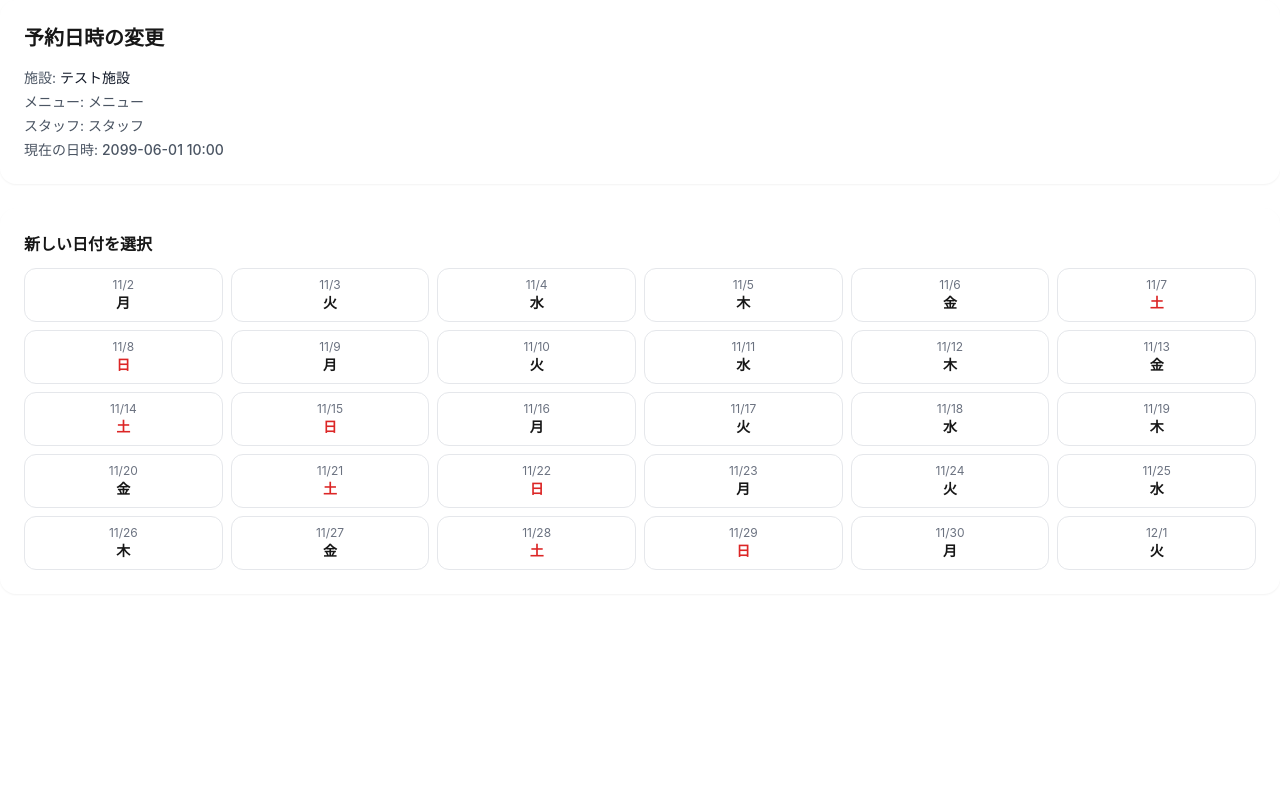
指名予約 › 当該スタッフの空き枠を /api/slots/week（選んだ1日分）で取得して表示する
Expected: the heading "新しい日付を選択" is shown, [24,234,152,254]
Click the button "11/3 火" at (330, 295), box [231,268,429,322]
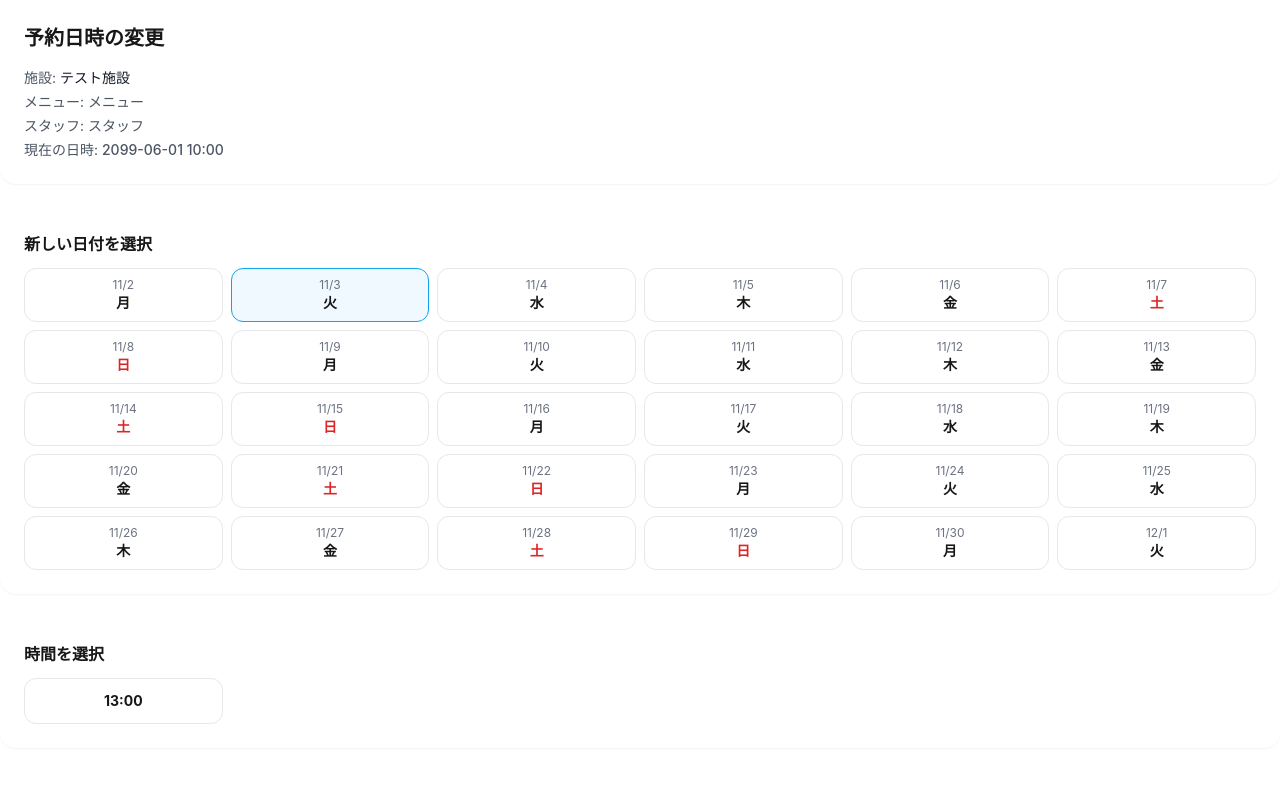
Expected: the text "13:00" is shown, [104,692,143,709]
